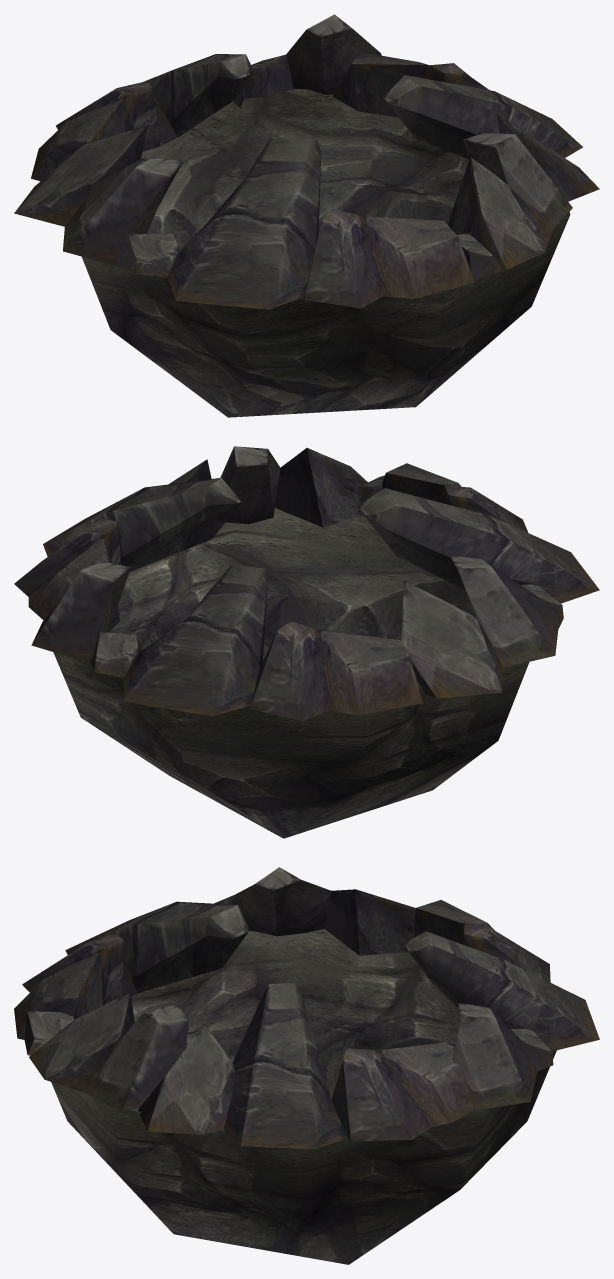
File: common_underground_dongxueshitou01.FBX
3 renders of one model, top to bottom at view 1: azimuth 30°, elevation 25°; view 2: azimuth 150°, elevation 25°; view 3: azimuth 270°, elevation 25°, orthographic.
Parts seen in each view (by area): view 1: common_underground_dongxueshitou01; view 2: common_underground_dongxueshitou01; view 3: common_underground_dongxueshitou01.
Boxes of the visible parts, x1=… form: common_underground_dongxueshitou01: x1=14, y1=14, x2=599, y2=417; common_underground_dongxueshitou01: x1=14, y1=446, x2=599, y2=838; common_underground_dongxueshitou01: x1=14, y1=867, x2=599, y2=1264.
Bounding box in the file's own units: 7.52 × 3.94 × 7.58.
